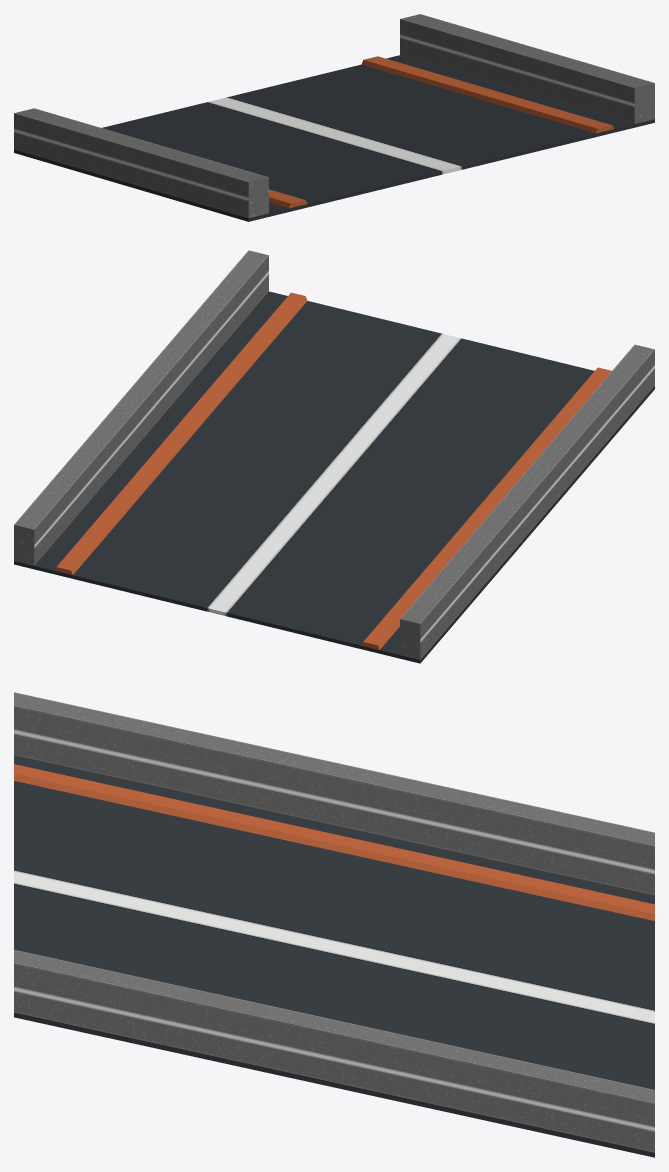
The model's file is kartkids_base_trk_190_rmp_up_1x1_z0_to_z2p5.gltf.
3 views of the same model, one above another, from view 1: azimuth 30°, elevation 25°; view 2: azimuth 150°, elevation 25°; view 3: azimuth 270°, elevation 25° (orthographic). The views are drawn at different scales.
Parts seen in each view (by area): view 1: kartkids_base_trk_190_rmp_up_1x1_z0_to_z2p5.001, kartkids_base_trk_190_rmp_up_1x1_z0_to_z2p5; view 2: kartkids_base_trk_190_rmp_up_1x1_z0_to_z2p5.001, kartkids_base_trk_190_rmp_up_1x1_z0_to_z2p5; view 3: kartkids_base_trk_190_rmp_up_1x1_z0_to_z2p5.001, kartkids_base_trk_190_rmp_up_1x1_z0_to_z2p5.
Boxes of the visible parts, x1=… form: kartkids_base_trk_190_rmp_up_1x1_z0_to_z2p5.001: x1=14, y1=55, x2=654, y2=221; kartkids_base_trk_190_rmp_up_1x1_z0_to_z2p5: x1=14, y1=14, x2=654, y2=218; kartkids_base_trk_190_rmp_up_1x1_z0_to_z2p5.001: x1=14, y1=291, x2=654, y2=663; kartkids_base_trk_190_rmp_up_1x1_z0_to_z2p5: x1=14, y1=250, x2=654, y2=659; kartkids_base_trk_190_rmp_up_1x1_z0_to_z2p5.001: x1=14, y1=755, x2=654, y2=1157; kartkids_base_trk_190_rmp_up_1x1_z0_to_z2p5: x1=14, y1=692, x2=654, y2=1152.
Bounding box in the file's own units: 10 × 3.35 × 10.
Materials: 2 (2 with a texture image).
